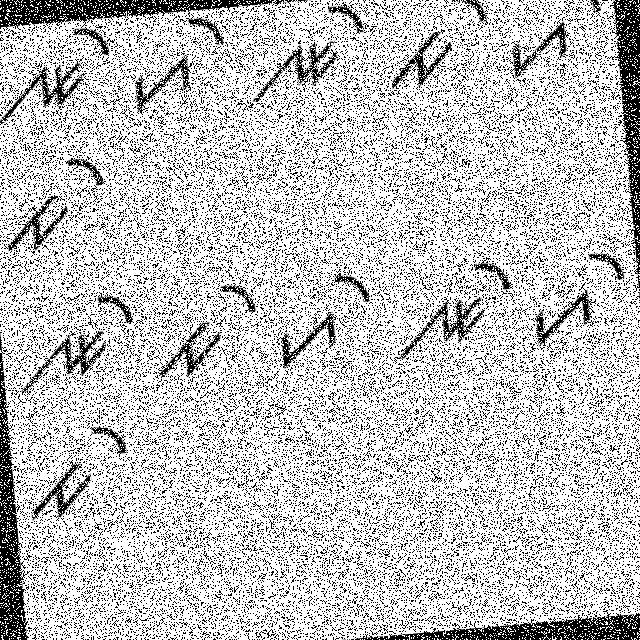hay: (126, 9, 240, 128), (263, 265, 384, 373), (521, 244, 632, 350), (493, 0, 611, 82)
mbay: (142, 274, 266, 392), (18, 416, 136, 530), (375, 0, 496, 107), (0, 153, 118, 258)
nday: (382, 245, 523, 366), (10, 275, 143, 396), (0, 23, 120, 146), (244, 2, 373, 112)
